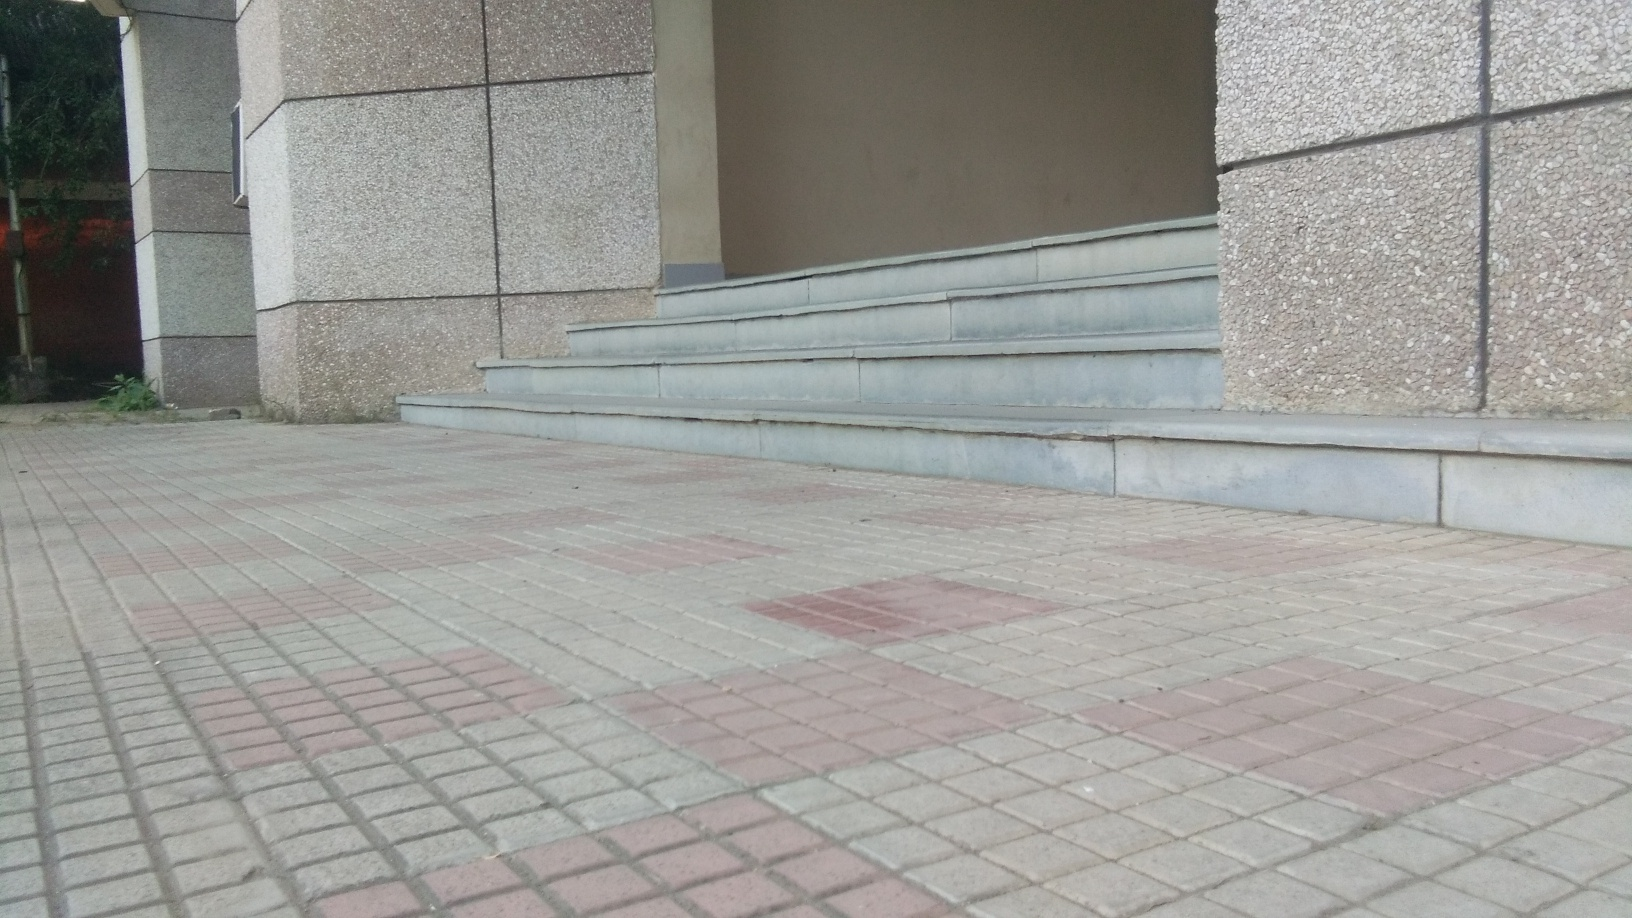stairs_up: (421, 195, 1207, 460)
